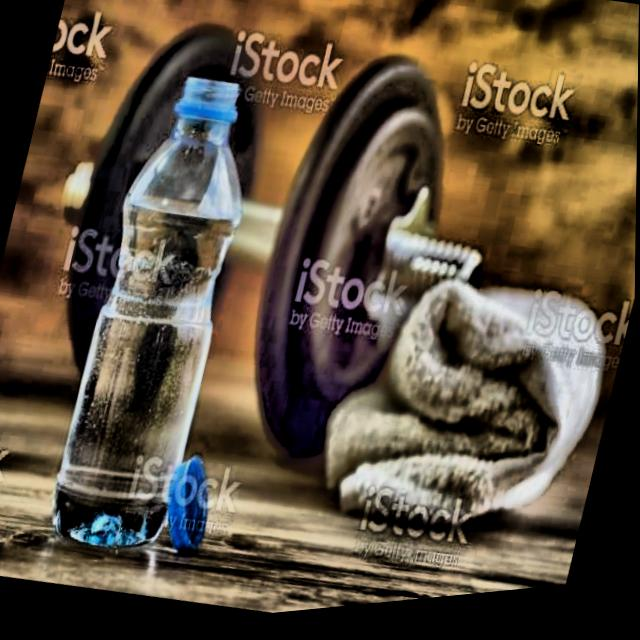Bottles: (33, 51, 293, 583)
